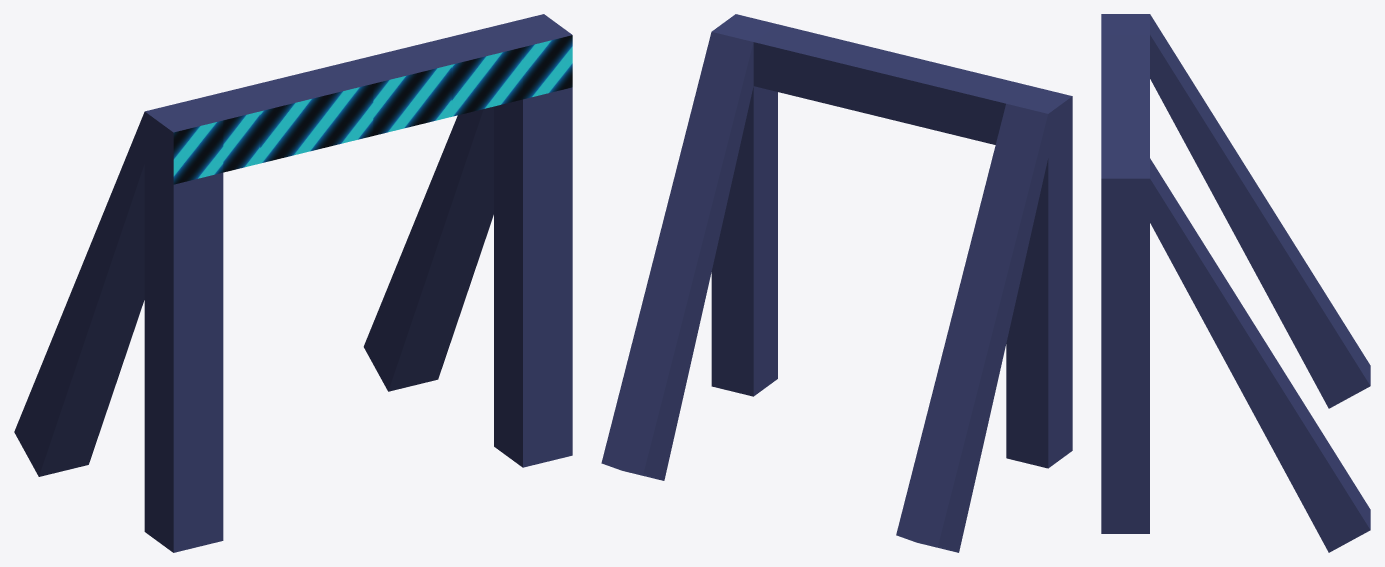
File: obstruction_1.fbx
3 renders of one model, left to right at view 1: azimuth 30°, elevation 25°; view 2: azimuth 150°, elevation 25°; view 3: azimuth 270°, elevation 25°, orthographic. The views are drawn at different scales.
Visible parts, largest first — view 1: 1; view 2: 1; view 3: 1.
Part boxes in pixels (x1,y1,x2,y2): 1: (14, 14, 572, 552); 1: (601, 14, 1072, 552); 1: (1101, 14, 1370, 552).
Size of the model in its own units: 160 by 170 by 111.
